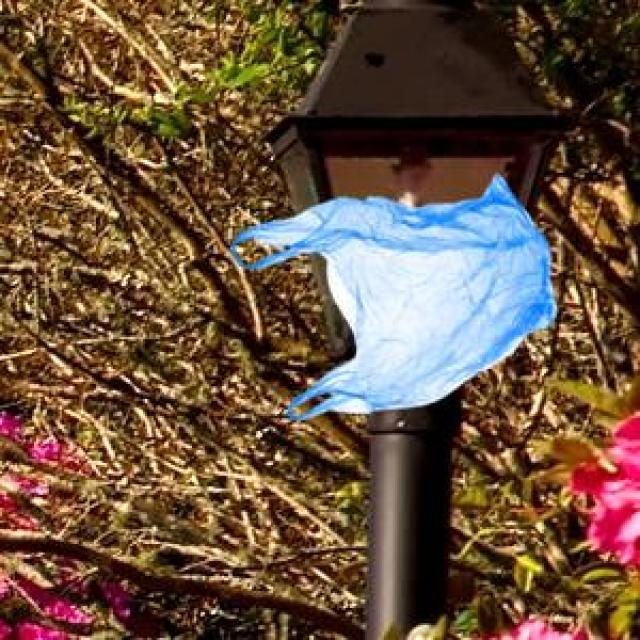Plastic_Bag: (229, 172, 554, 418)
